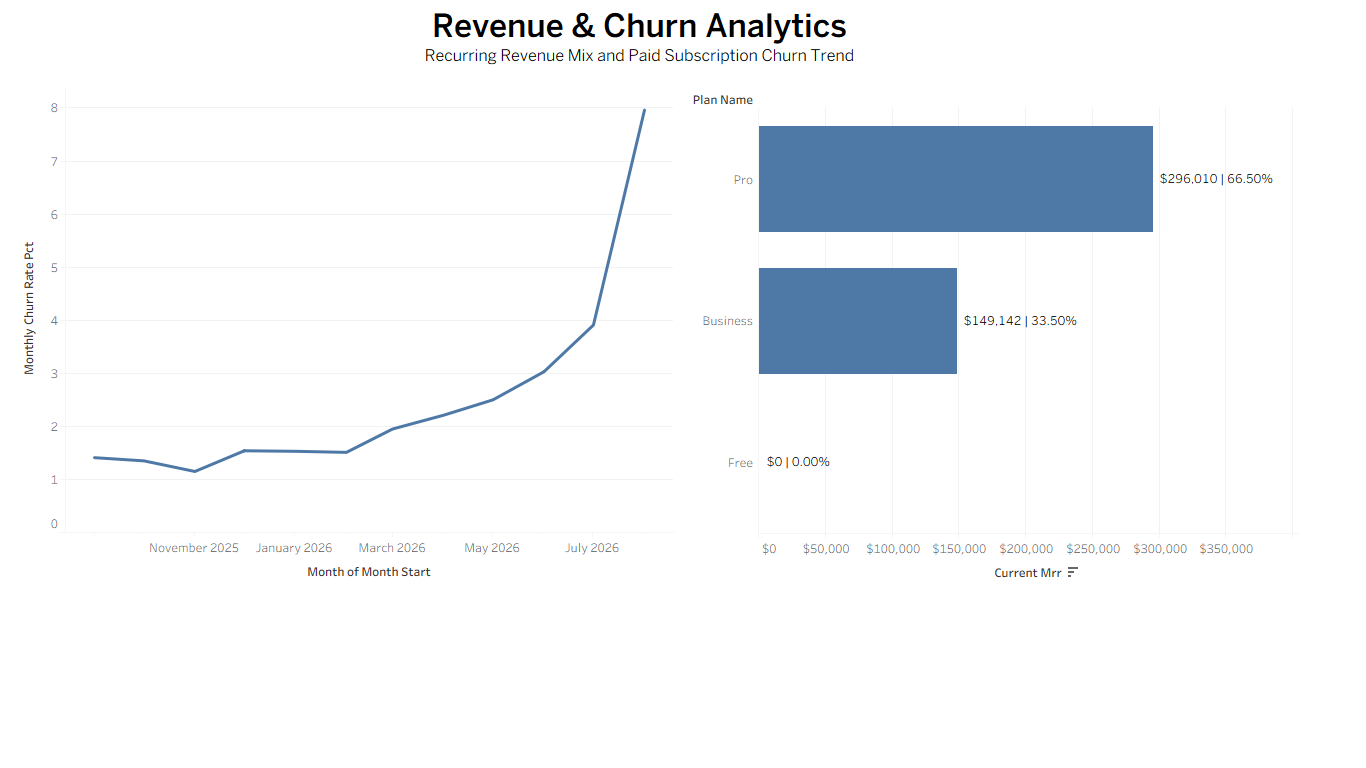

Layout of this report page (visuals, bound fields, positions):
{"tool":"tableau","page":{"name":"Revenue & Churn","canvas":[1366,768],"ordinal":3},"visuals":[{"type":"text","box":[238,1,803,72]},{"type":"worksheet","title":"Monthly Paid Churn Trend","mark":"Line","rows":["MONTHLY_CHURN_RATE_PCT"],"cols":["MONTH_START"],"box":[13,87,660,500]},{"type":"worksheet","title":"MRR by Plan","mark":"Bar","rows":["PLAN_NAME"],"cols":["CURRENT_MRR"],"box":[678,88,620,500]}]}

Visuals, with their boxes in screenshot pixels (x1, y1, x2, y2), scaled from the page's 1366x768 canvas onto the 1366x768 screenshot:
text: detection(238, 1, 1041, 73)
"Monthly Paid Churn Trend" worksheet (Line marks): detection(13, 87, 673, 587)
"MRR by Plan" worksheet (Bar marks): detection(678, 88, 1298, 588)
